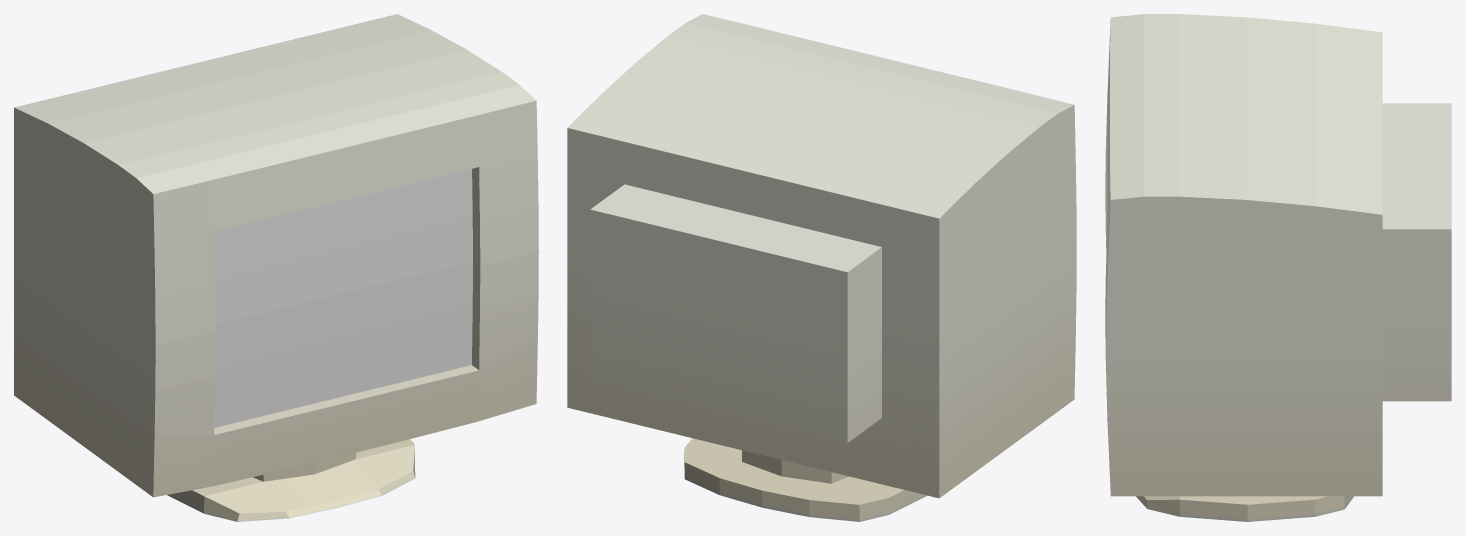
The model's file is Monitor.fbx.
3 views of the same model, side by side, from view 1: azimuth 30°, elevation 25°; view 2: azimuth 150°, elevation 25°; view 3: azimuth 270°, elevation 25° (orthographic). The views are drawn at different scales.
Parts seen in each view (by area): view 1: Monitor; view 2: Monitor; view 3: Monitor.
Boxes of the visible parts, <box> form: Monitor: <box>14,14,538,521</box>; Monitor: <box>567,14,1076,521</box>; Monitor: <box>1105,14,1451,521</box>.
Size of the model in its own units: 1.28 by 1.47 by 1.6.
